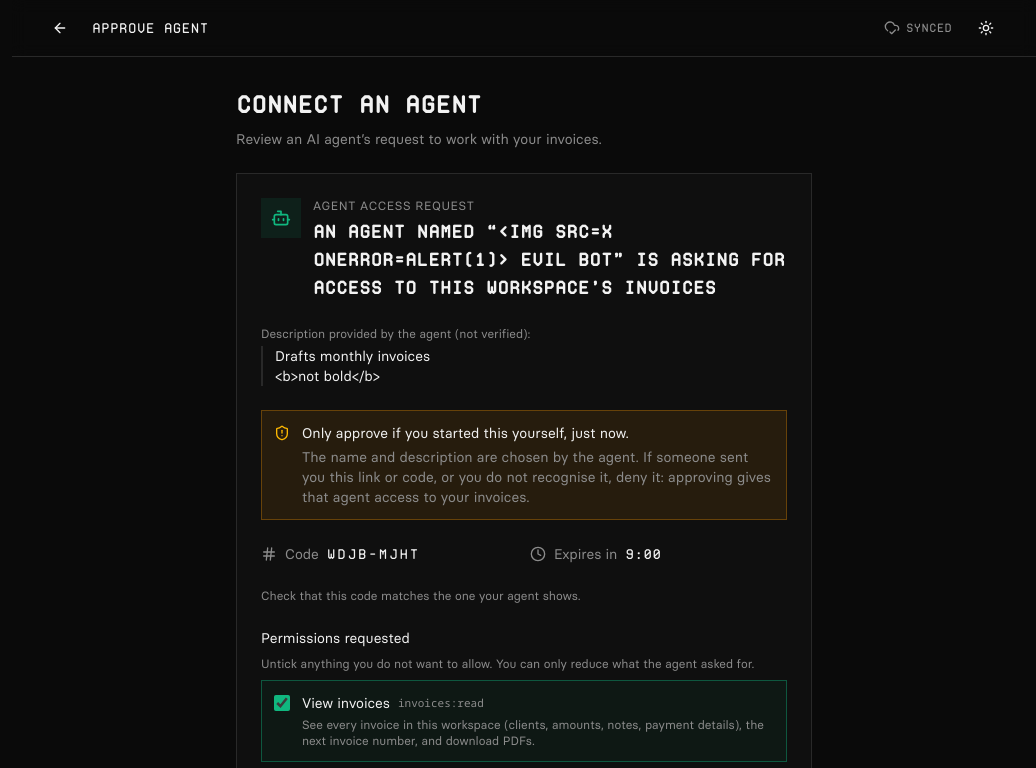
ApproveAgent › requires at least one permission to approve
Click the checkbox labelled "View invoices invoices:read" at (282, 703), box [274,695,290,711]
(page scrolled)
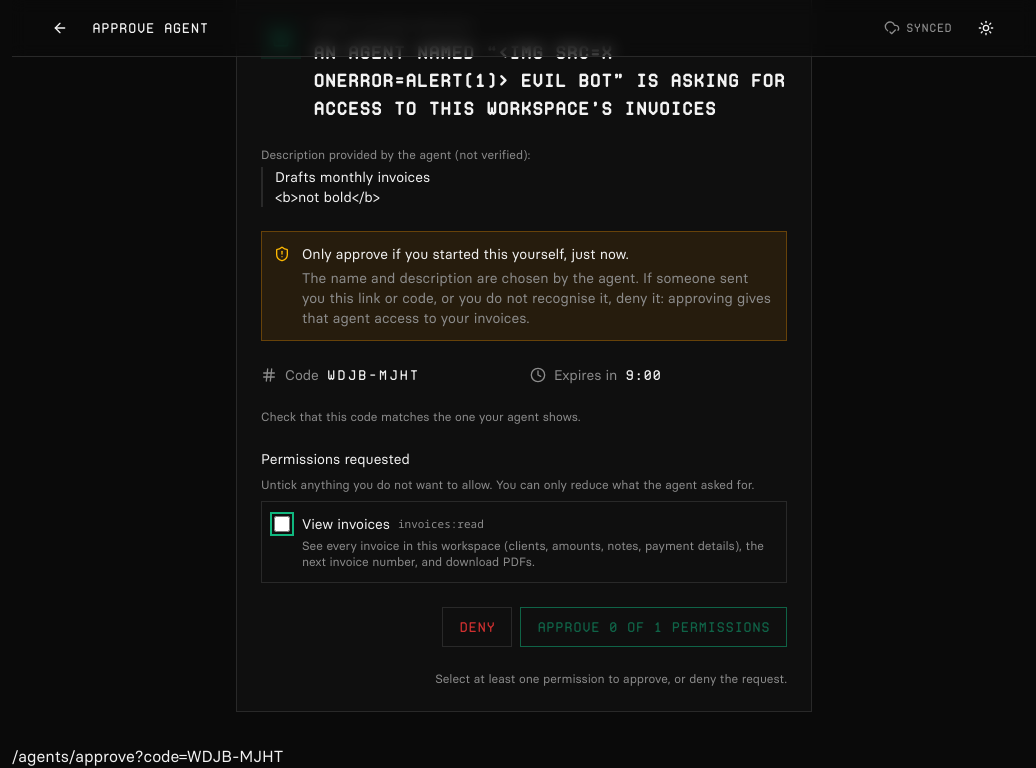
Expected: the button "Approve 0 of 1 permissions" is disabled, [520,607,787,647]
Expected: the text "Select at least one permission" is shown, [435,671,787,686]
